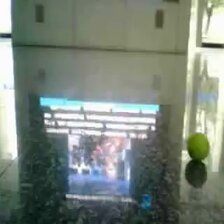tennis: (187, 132, 209, 160)
